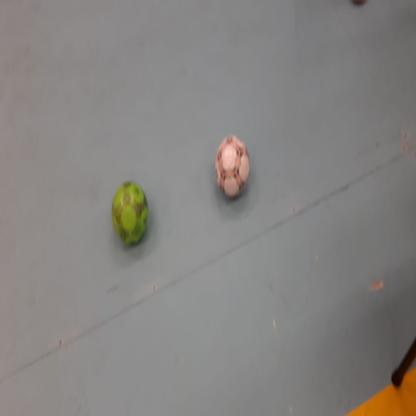ball: (214, 134, 250, 198), (113, 182, 148, 247)
